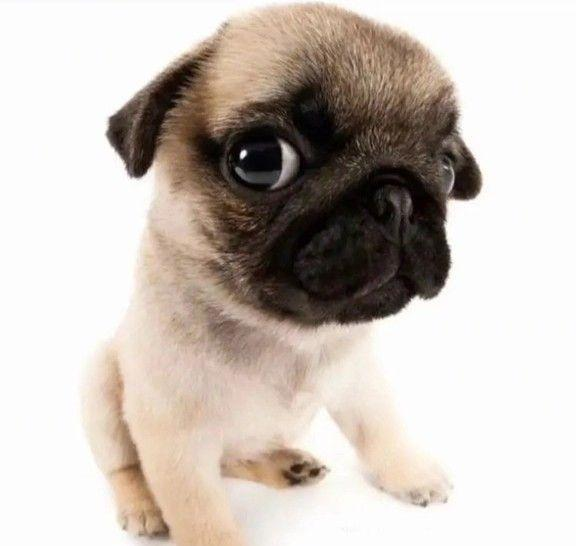puppy-dog: (69, 3, 486, 546)
